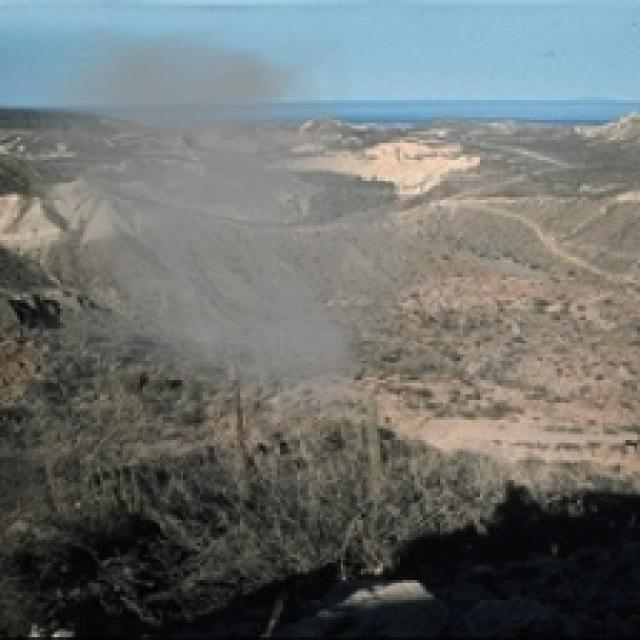smoke: (29, 23, 437, 417)
